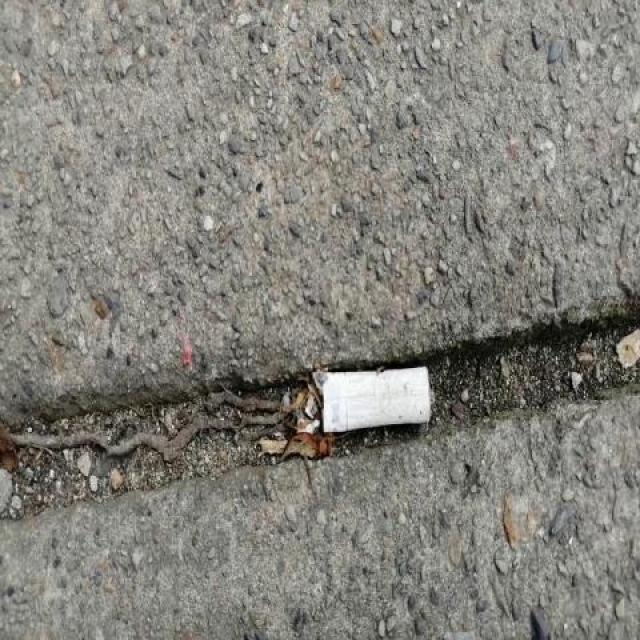non-organic waste: (313, 361, 439, 436)
